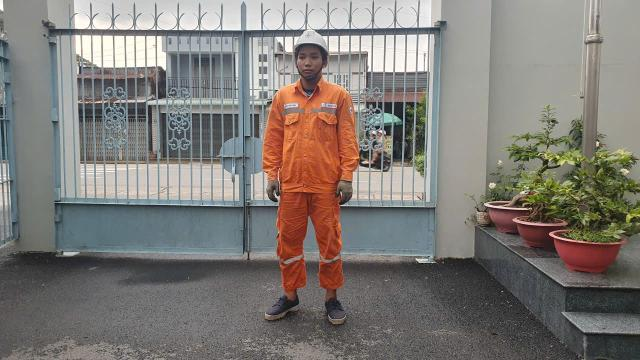gloves: (332, 172, 364, 212), (259, 168, 284, 209)
helmet: (280, 24, 340, 63)
shoes: (260, 284, 303, 323), (320, 284, 352, 328)
